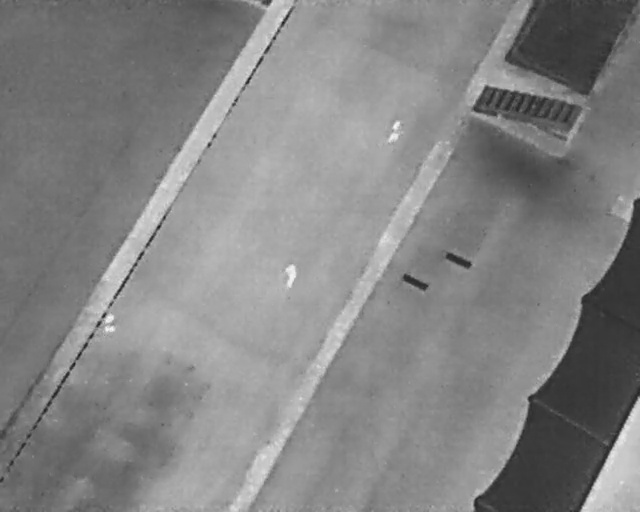Person: (384, 118, 407, 147), (282, 261, 297, 290), (102, 312, 117, 333)
